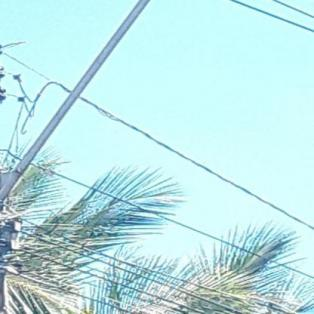Poste: (0, 0, 85, 314)
